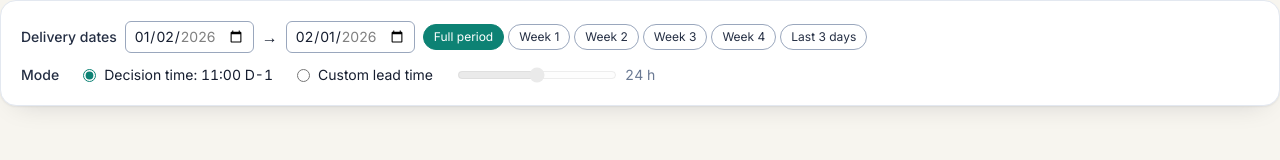
Controls › disables the slider in cutoff mode and enables it in custom lead-time mode
The image size is (1280, 160).
Check: the slider named "Lead time in hours" is disabled, box [457,67,617,83]
Click the radio button labelled "Custom lead time" at (304, 75), box [297,68,310,82]
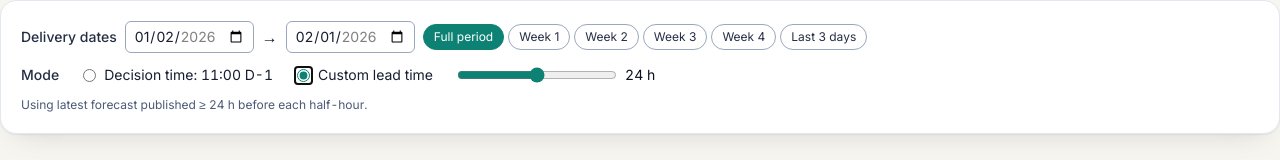
Check: the slider named "Lead time in hours" is enabled, box [457,67,617,83]
